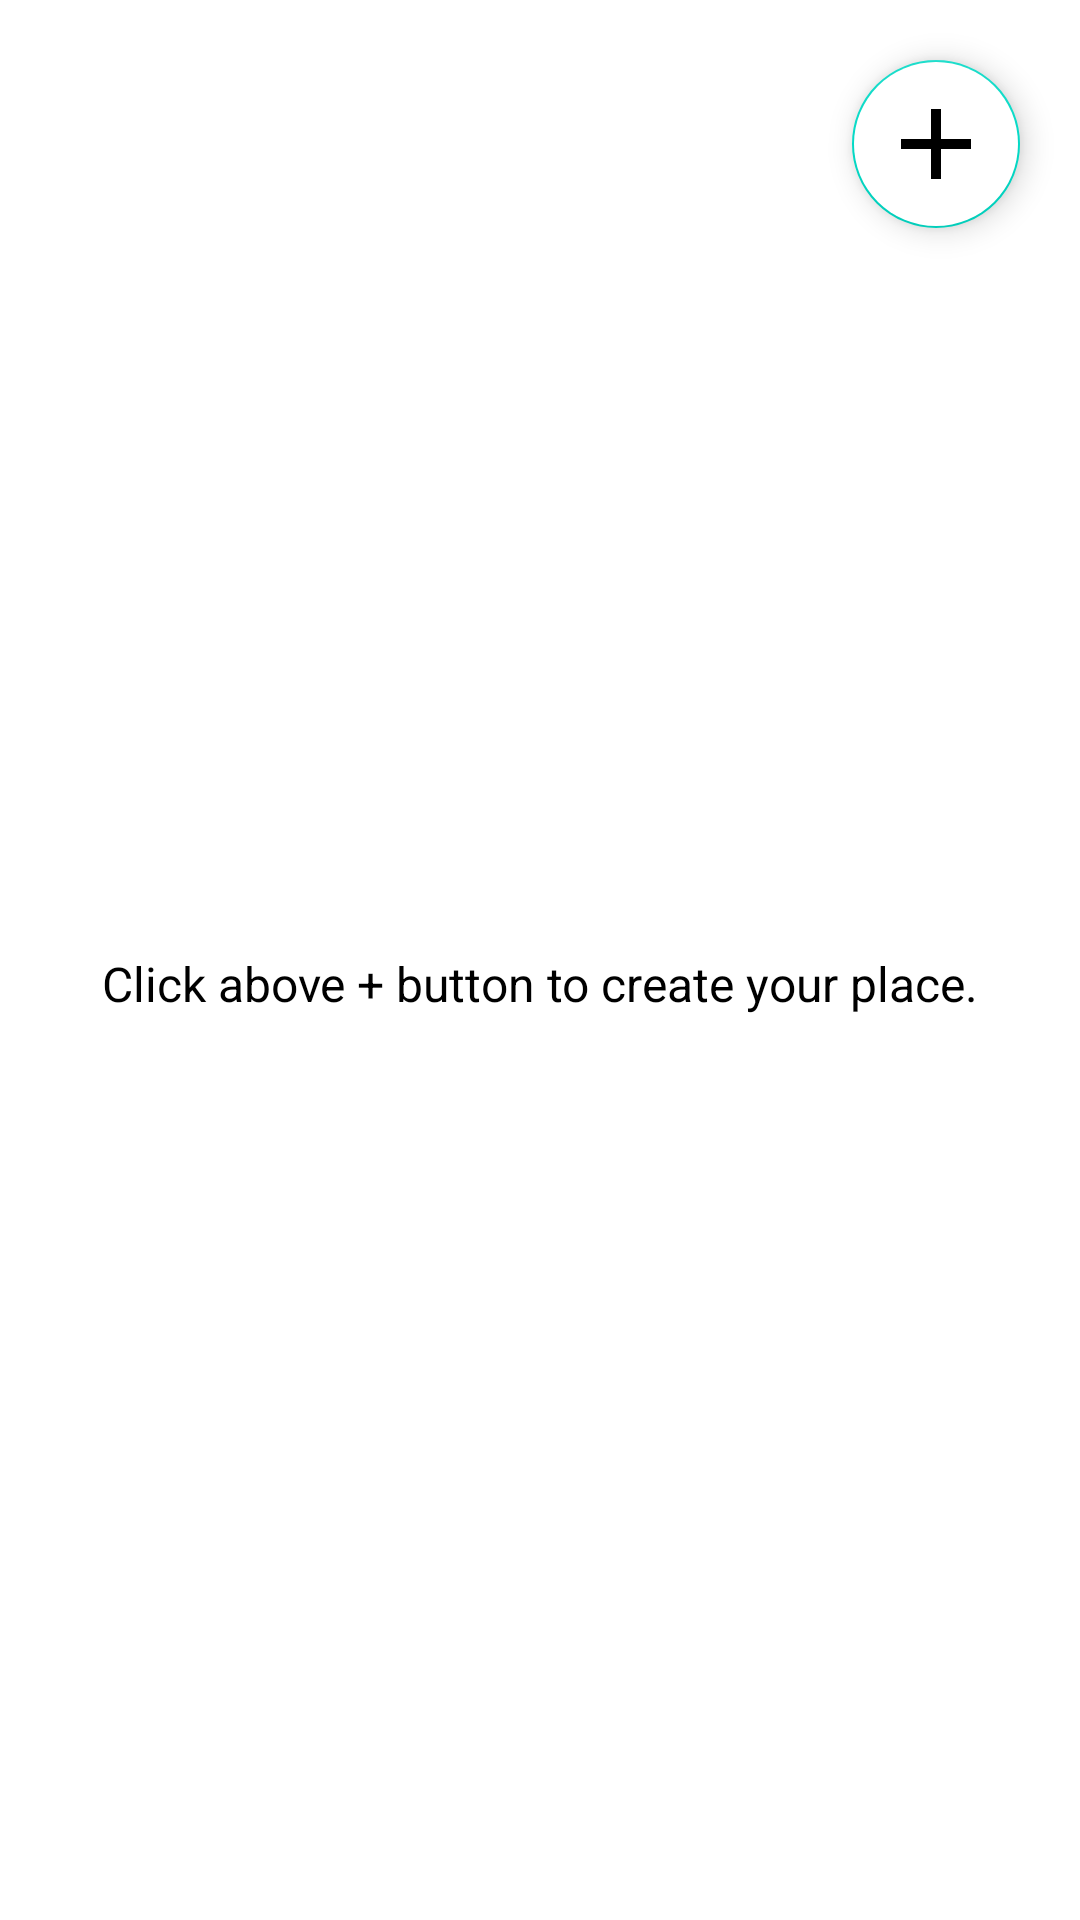

Icon click points for this 1080×1920 phone screenshot, format (x,y):
add: (936,144)
